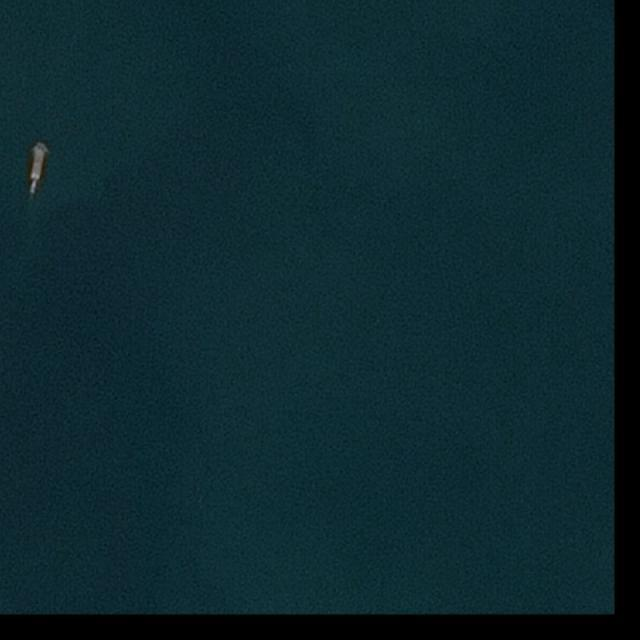ship: (29, 143, 47, 181), (29, 179, 38, 195)
